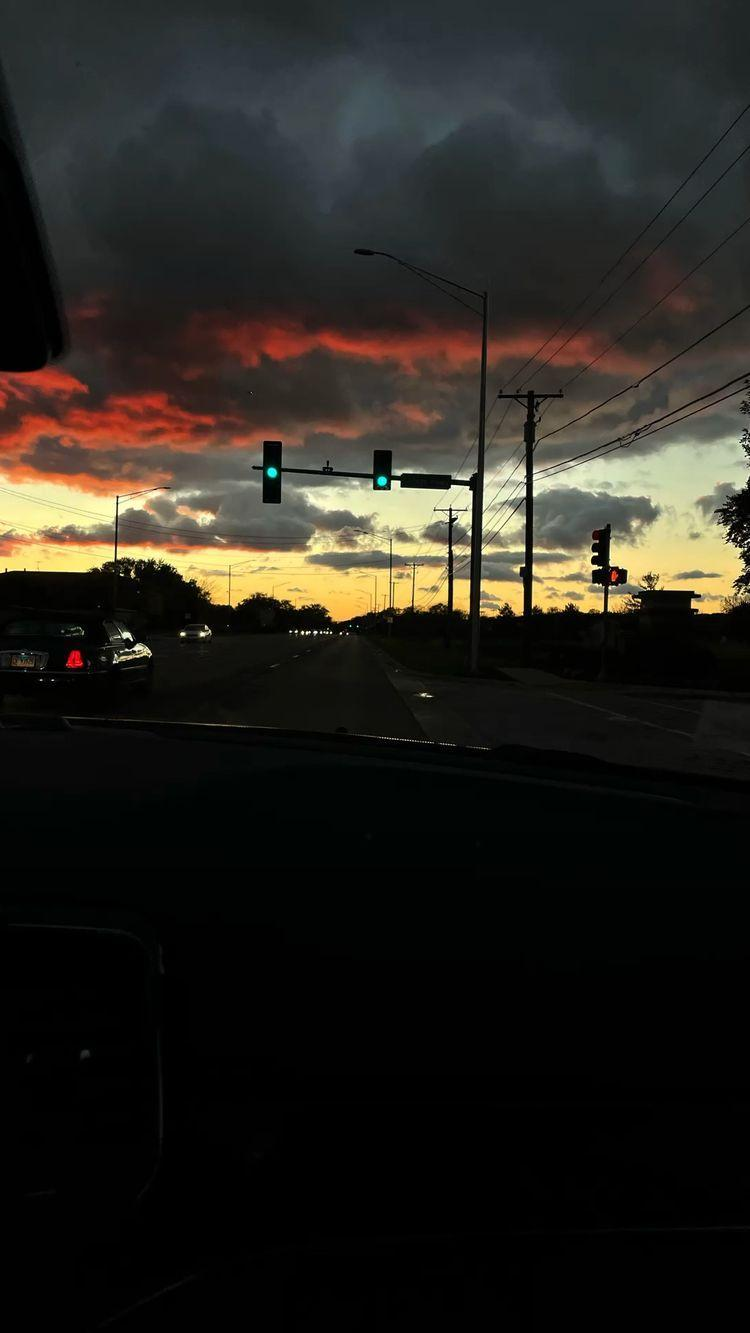green: (240, 433, 307, 540)
